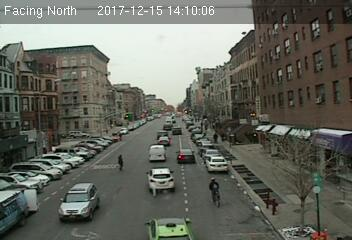bicycle: (208, 177, 222, 210)
car: (57, 183, 101, 224), (145, 216, 196, 240), (147, 167, 175, 193), (207, 155, 228, 172), (176, 149, 195, 163), (157, 136, 170, 146), (172, 127, 182, 134)
truck: (1, 189, 29, 235), (149, 146, 165, 162)
